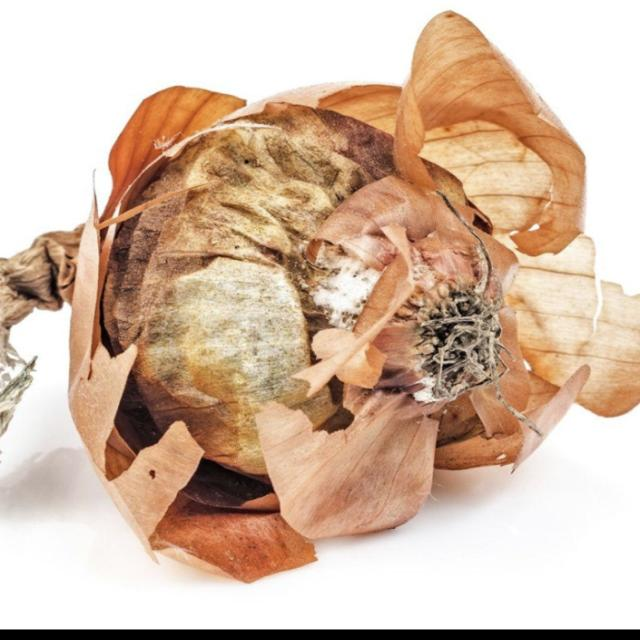mechanical_damage: (0, 11, 639, 580)
